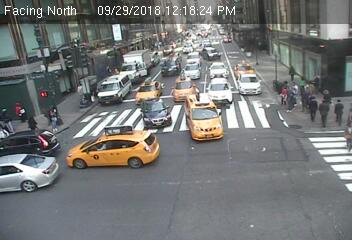car: (64, 125, 161, 172), (1, 151, 60, 194), (184, 93, 226, 141), (1, 129, 57, 157), (94, 71, 132, 104), (116, 52, 150, 85), (141, 100, 174, 127), (134, 79, 162, 105), (171, 75, 198, 100), (235, 73, 262, 95), (207, 83, 232, 104), (232, 59, 258, 76), (206, 62, 231, 78), (182, 62, 201, 81), (158, 58, 179, 75), (201, 44, 219, 61), (187, 51, 201, 64), (162, 44, 175, 55), (222, 35, 233, 43)
